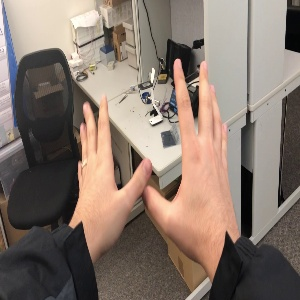hand: (144, 58, 238, 242), (74, 94, 152, 244)
